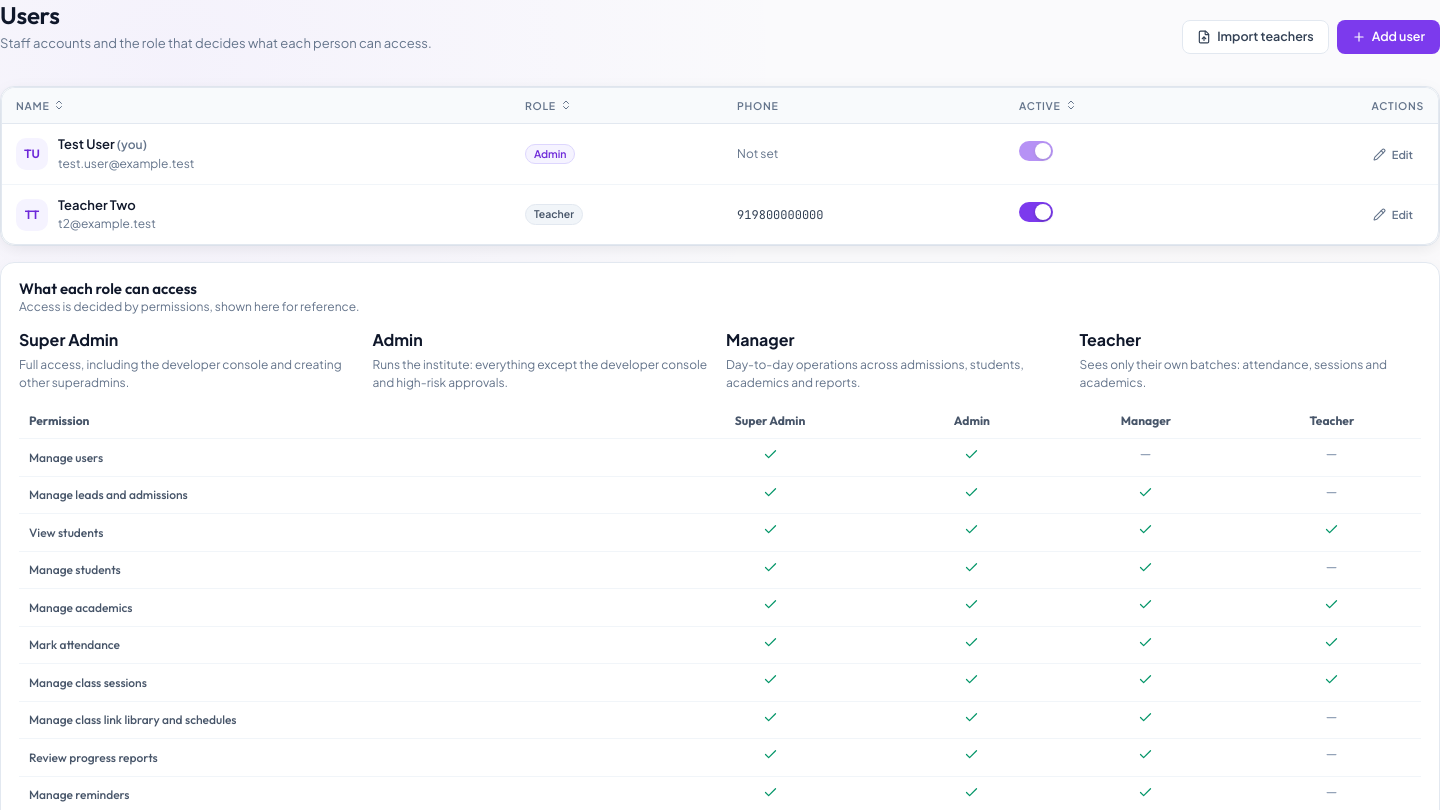
it: UsersView › deactivates after confirmation and shows server errors
Check: the text "Teacher Two" is shown, box [58, 197, 136, 213]
Click the switch named "Teacher Two active" in the row of "Teacher Two" at (1036, 212), box [1019, 202, 1053, 222]
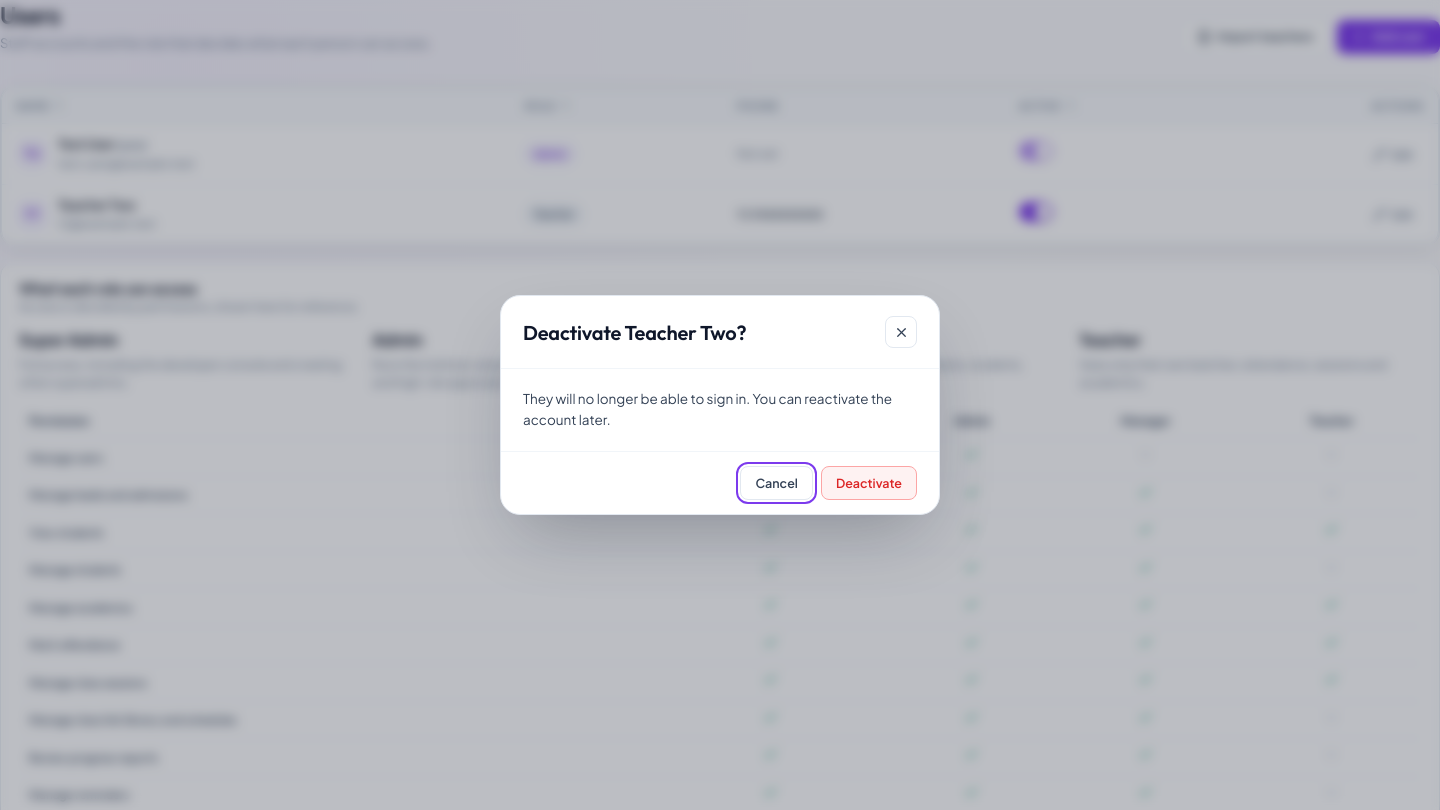
Click the button "Deactivate" at (869, 483), box [821, 466, 917, 500]
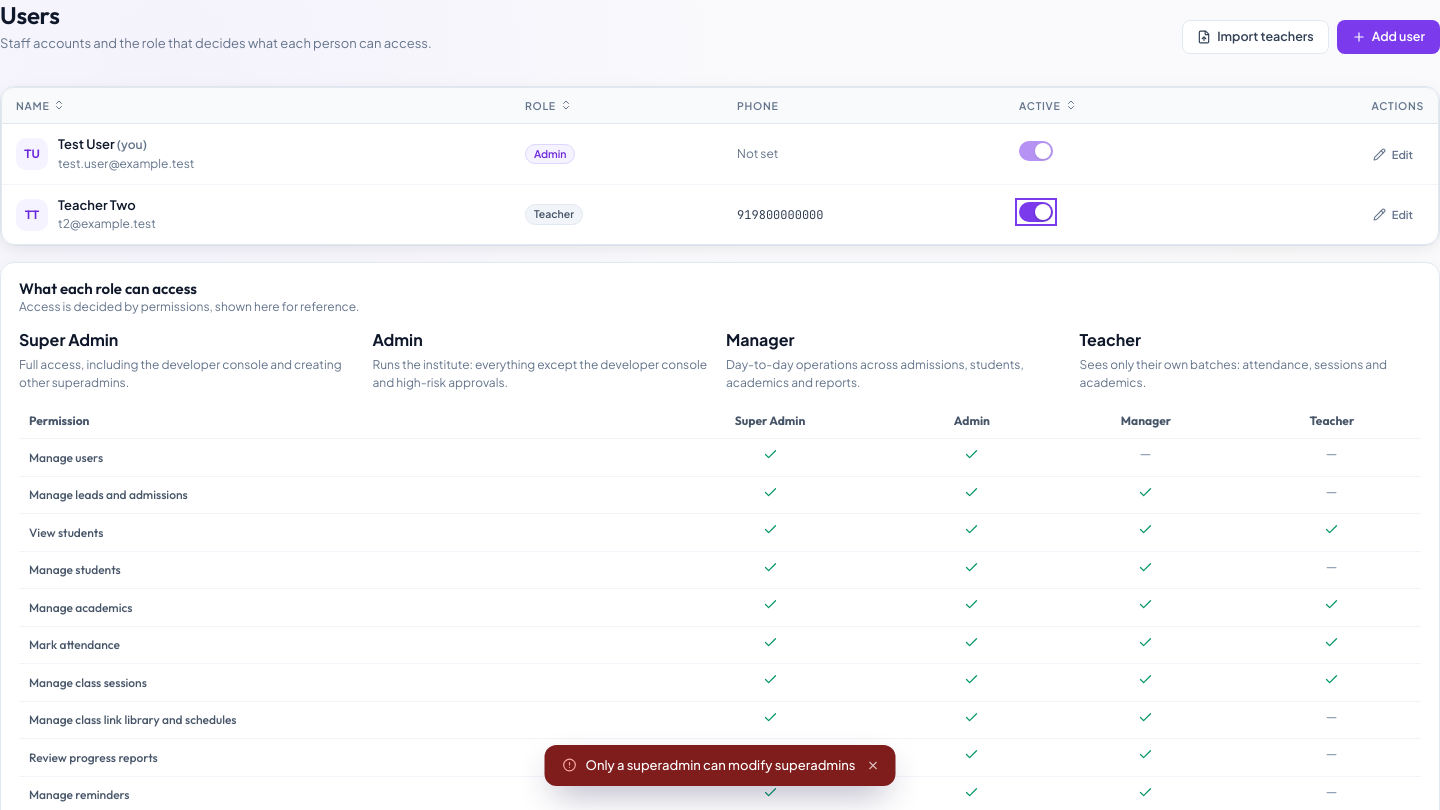
Check: the text "Only a superadmin can modify superadmins" is shown, box [544, 744, 896, 786]
